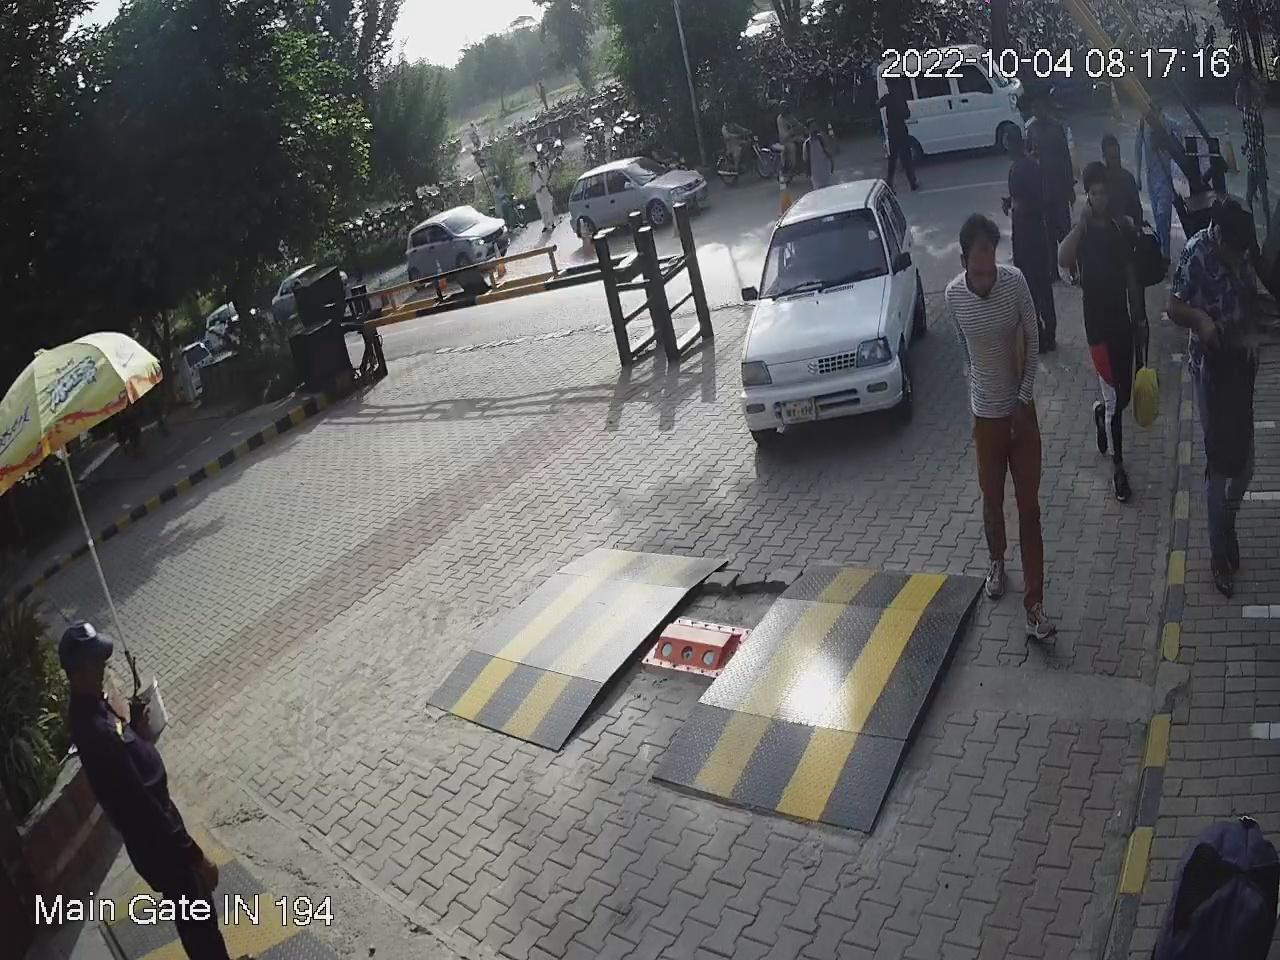windshield: (758, 203, 898, 303)
